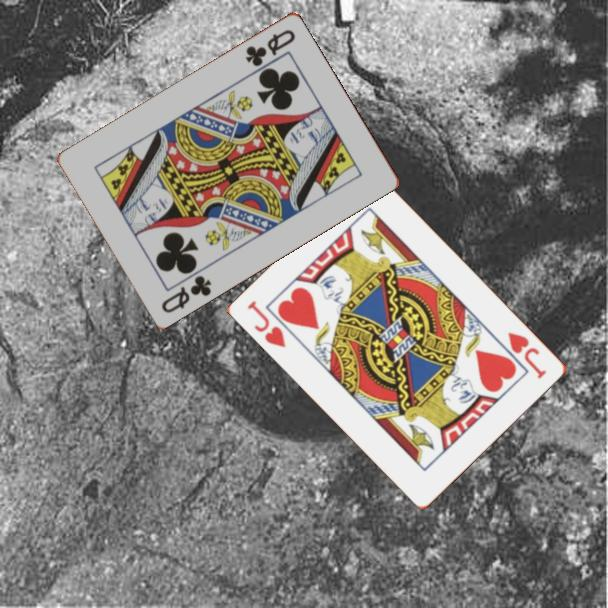c12: (158, 271, 215, 316), (242, 25, 298, 69)
h11: (504, 328, 550, 382), (244, 297, 289, 351)
